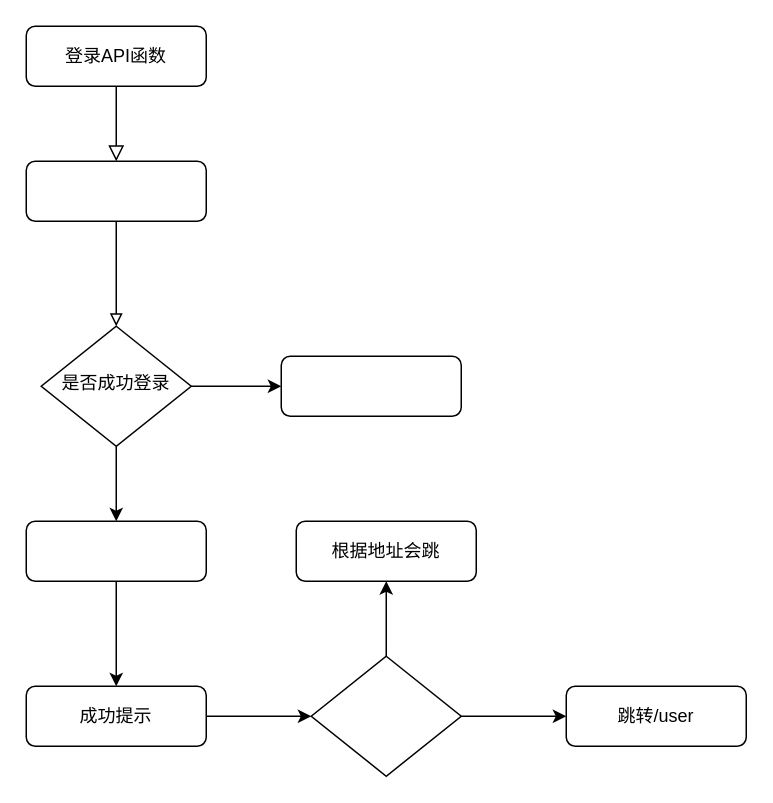
Image size: 773x803. Some labels were removed from this diagram. Here are the shapes that lost their labels. From the top down, the centre of each, then its label:
point 115,190: 进行登录
point 115,550: 存储登录信息
point 385,715: 是否有会 跳地址
